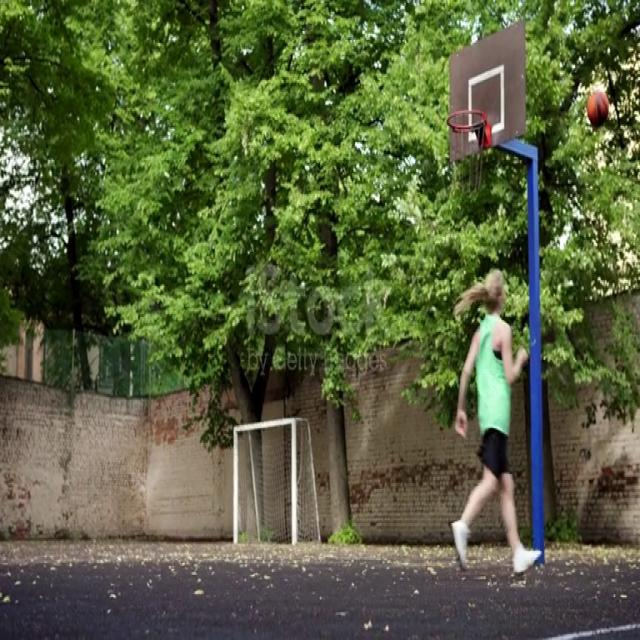ball: (585, 88, 610, 128)
